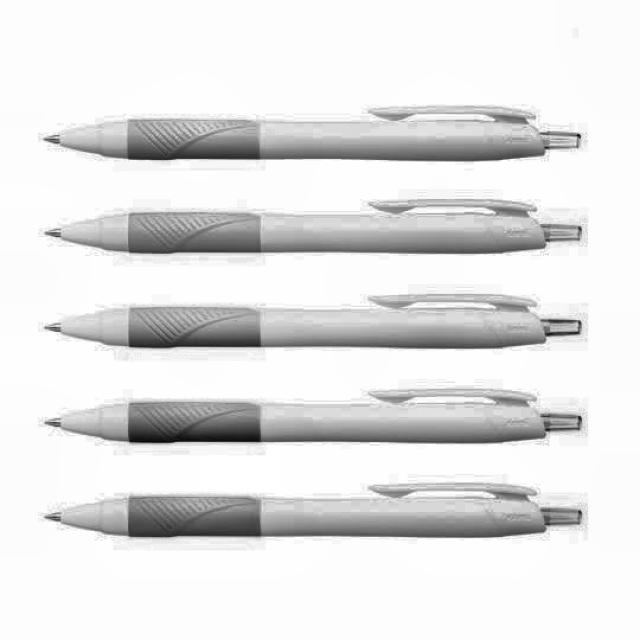Pen: (45, 484, 584, 539), (45, 199, 583, 254), (45, 294, 583, 348), (45, 390, 584, 443), (45, 107, 582, 160)
